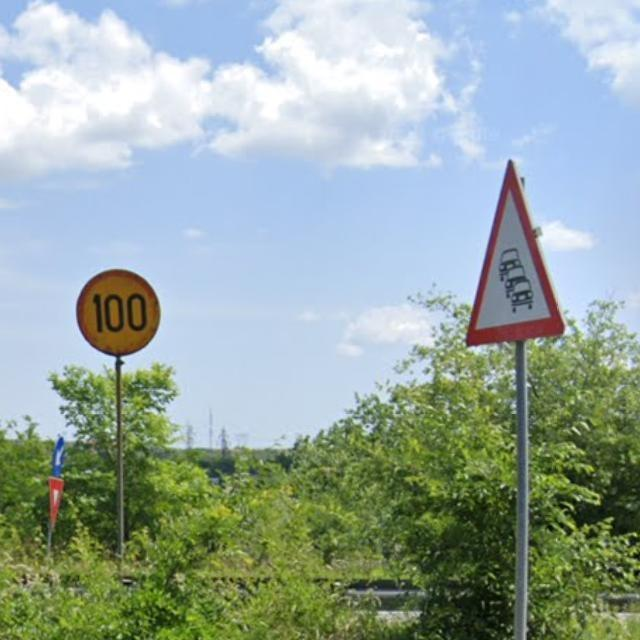forb_speed_over_100: (76, 267, 160, 355)
